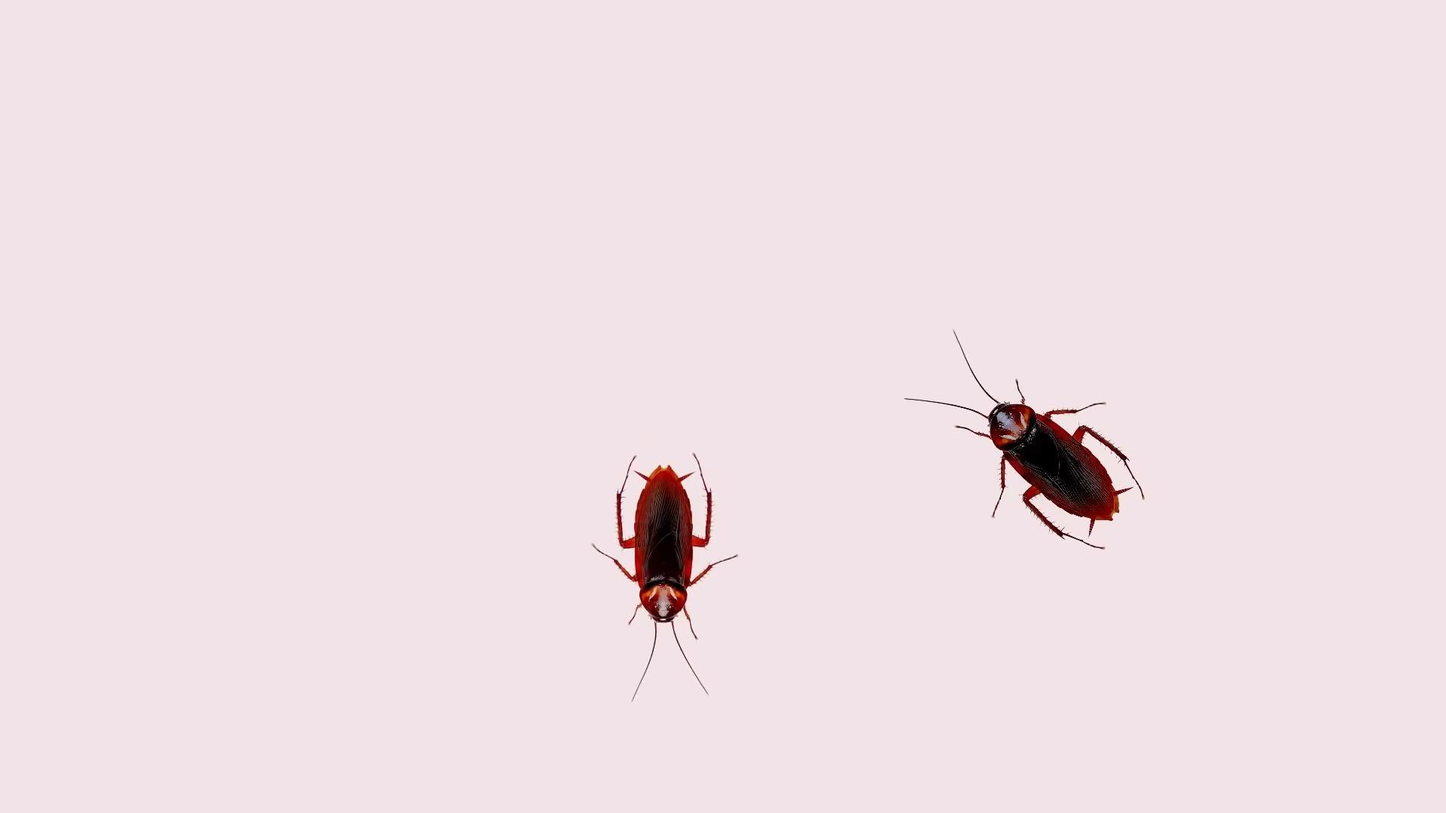cockroach: (915, 347, 1148, 556), (588, 432, 737, 683)
